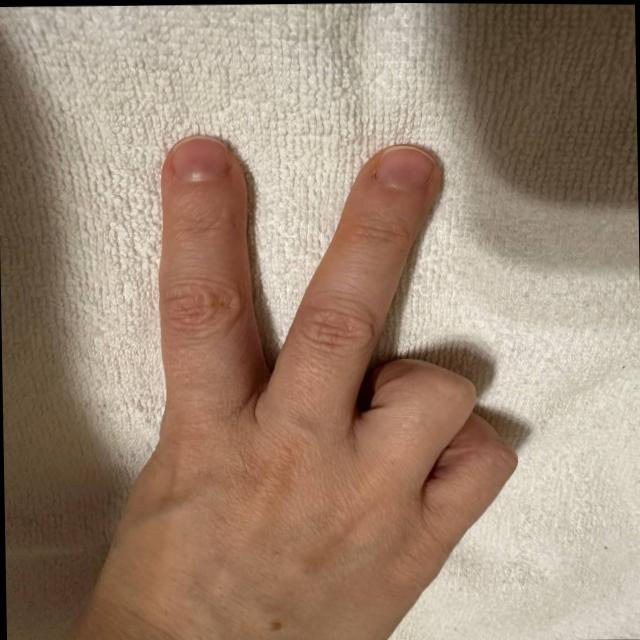l: (72, 111, 494, 620)
